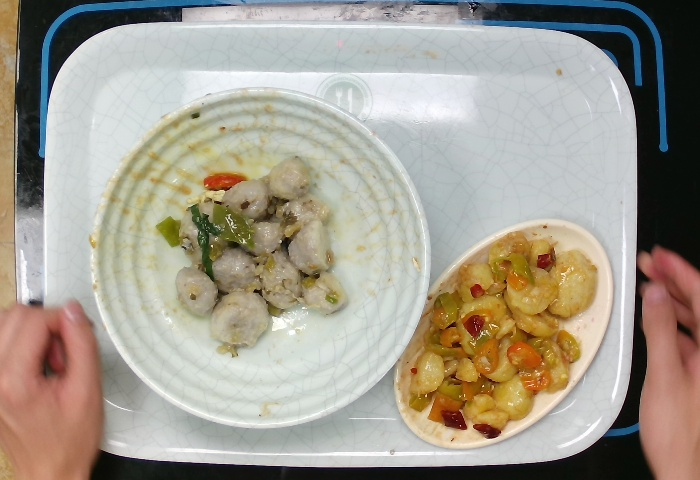JYsf-Da_Tang_Wan: (82, 83, 441, 434)
JYsf-Tuo_Yuan_Wan: (388, 212, 619, 453)
